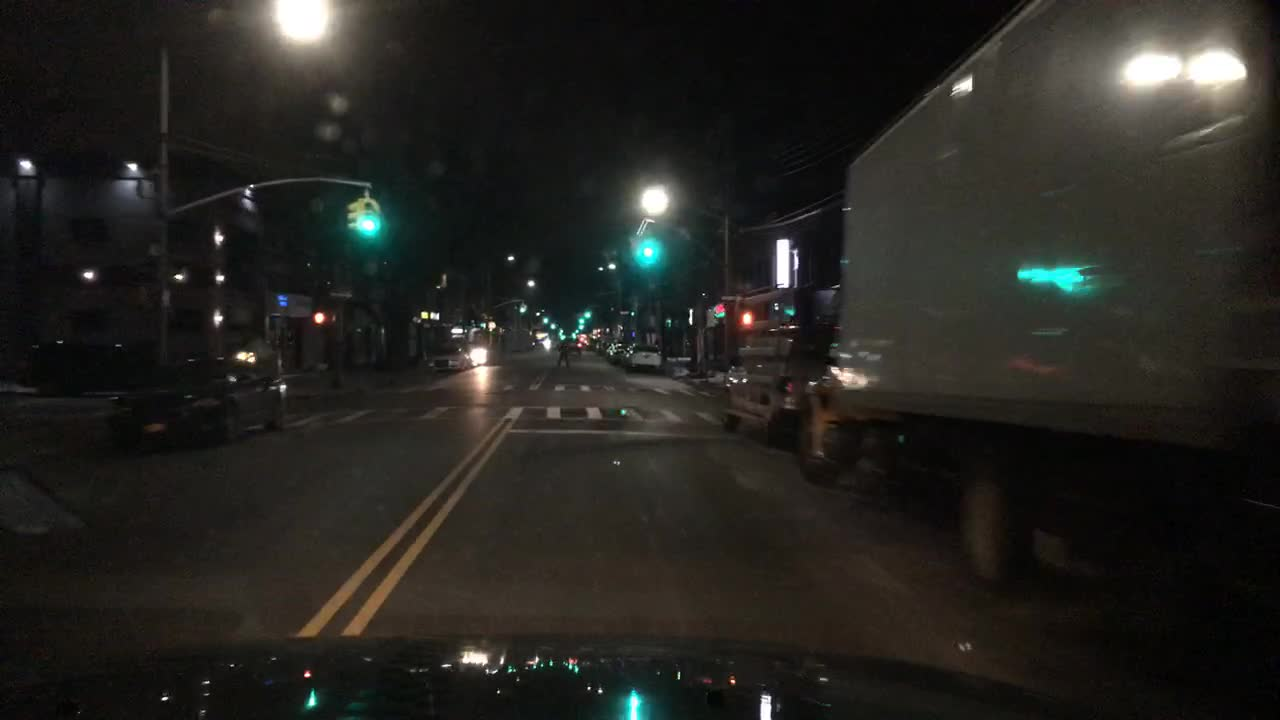car: (720, 290, 841, 444), (108, 354, 284, 452), (18, 337, 147, 396), (425, 343, 469, 373), (629, 343, 660, 372), (467, 339, 493, 364), (345, 193, 360, 236), (606, 343, 625, 362), (600, 340, 620, 354), (591, 336, 606, 348)
person: (555, 342, 575, 368)
traffic light: (361, 198, 374, 237), (739, 308, 756, 329), (640, 235, 651, 262), (710, 302, 727, 318), (312, 310, 328, 325), (518, 302, 527, 314), (586, 310, 593, 323), (543, 315, 549, 328), (577, 316, 584, 326), (547, 323, 556, 329)
truck: (796, 2, 1278, 677)
